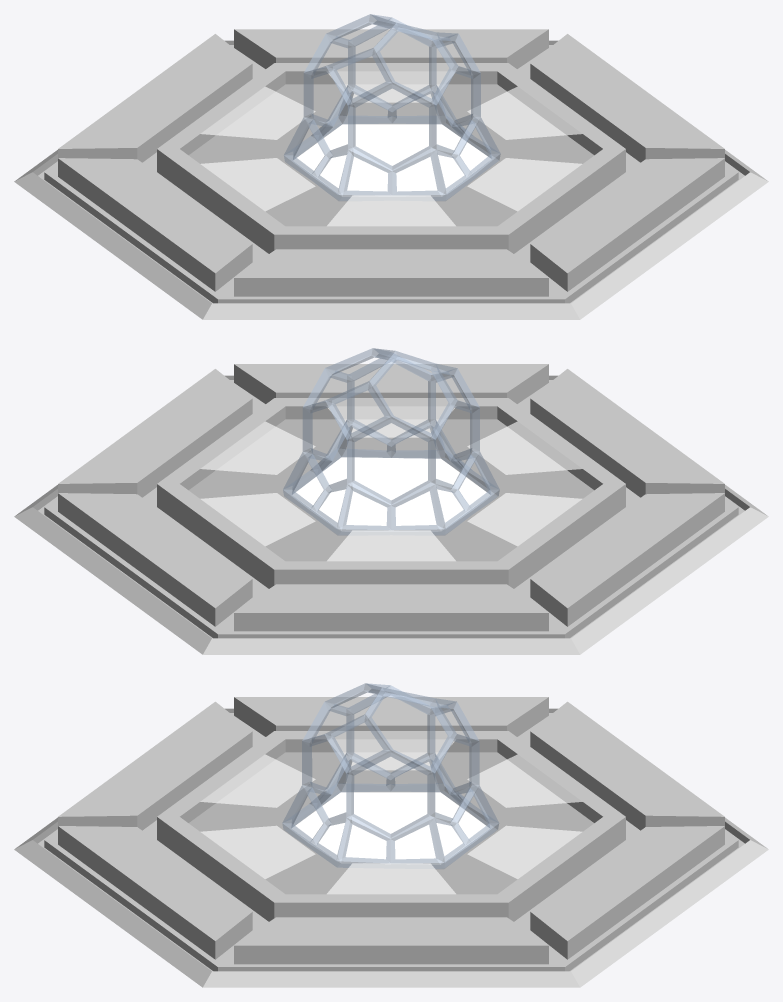
The model's file is ShieldModul.fbx.
3 views of the same model, one above another, from view 1: azimuth 30°, elevation 25°; view 2: azimuth 150°, elevation 25°; view 3: azimuth 270°, elevation 25° (orthographic).
Parts seen in each view (by area): view 1: Shield; view 2: Shield; view 3: Shield.
Boxes of the visible parts, box(x1,y1,x2,y2) form: Shield: box(14, 14, 768, 319); Shield: box(14, 348, 768, 654); Shield: box(14, 683, 768, 987).
Bounding box in the file's own units: 214 × 58.66 × 247.
